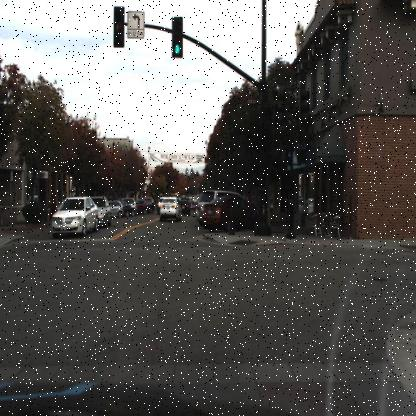car: (50, 194, 100, 238), (202, 200, 258, 231), (194, 190, 241, 219), (158, 194, 182, 222), (104, 196, 125, 221), (94, 197, 111, 224), (179, 198, 191, 220), (145, 197, 156, 216), (126, 198, 137, 216), (110, 200, 122, 216), (136, 201, 148, 217), (122, 199, 132, 217)
trafficLight: (114, 6, 123, 45)
trafficLight-Green: (171, 19, 183, 56)
